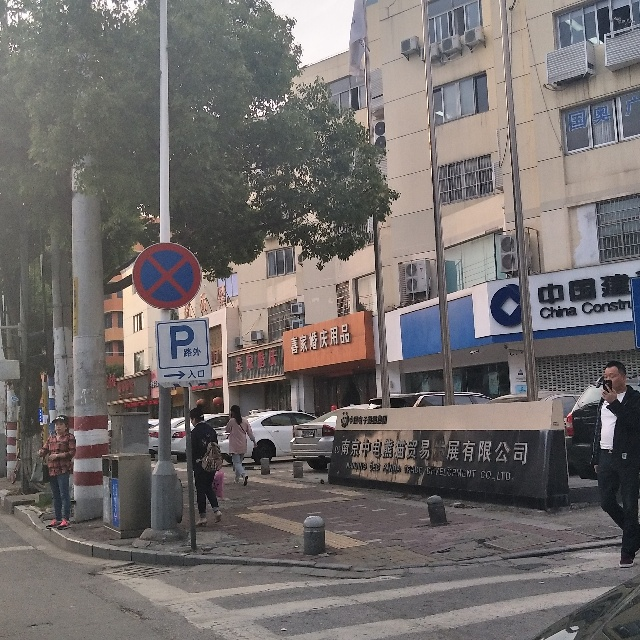stop: (131, 242, 202, 307)
